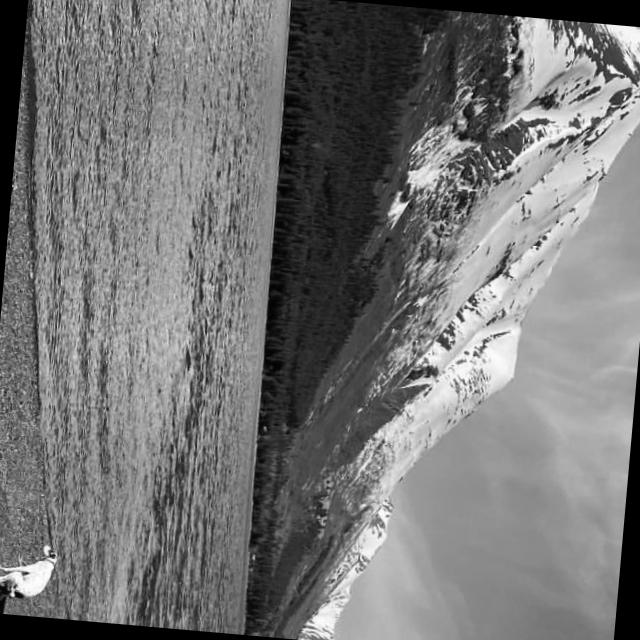squatting: (0, 534, 60, 606)
